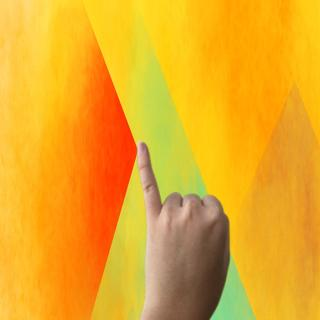Fine: (130, 137, 235, 316)
